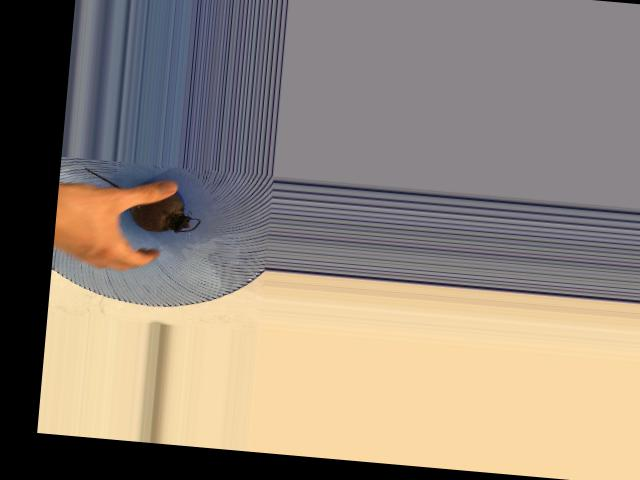beet: (80, 167, 204, 235)
